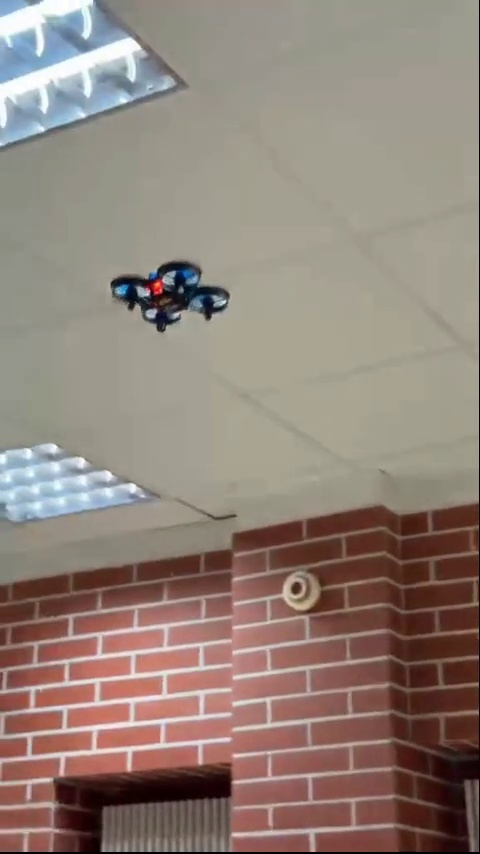drone: (109, 258, 240, 334)
